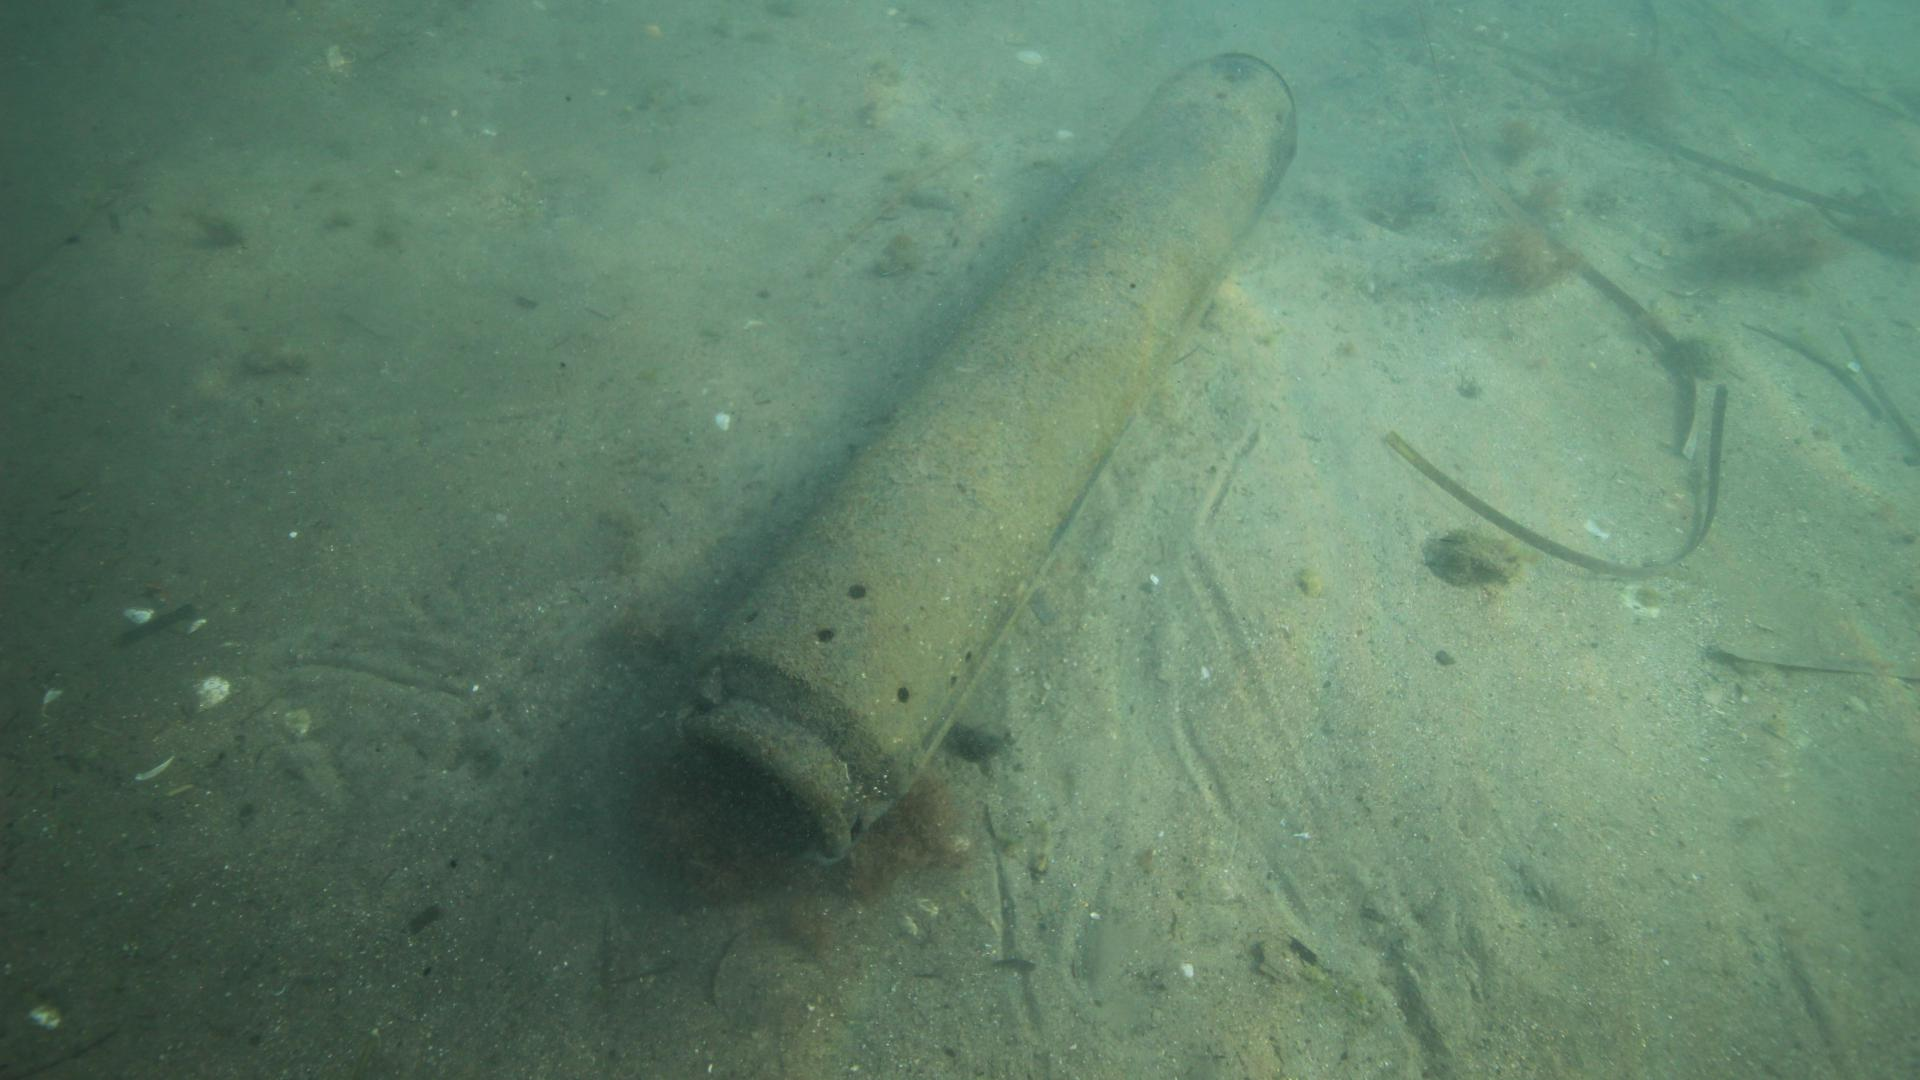eel fish trap: (673, 47, 1298, 878)
